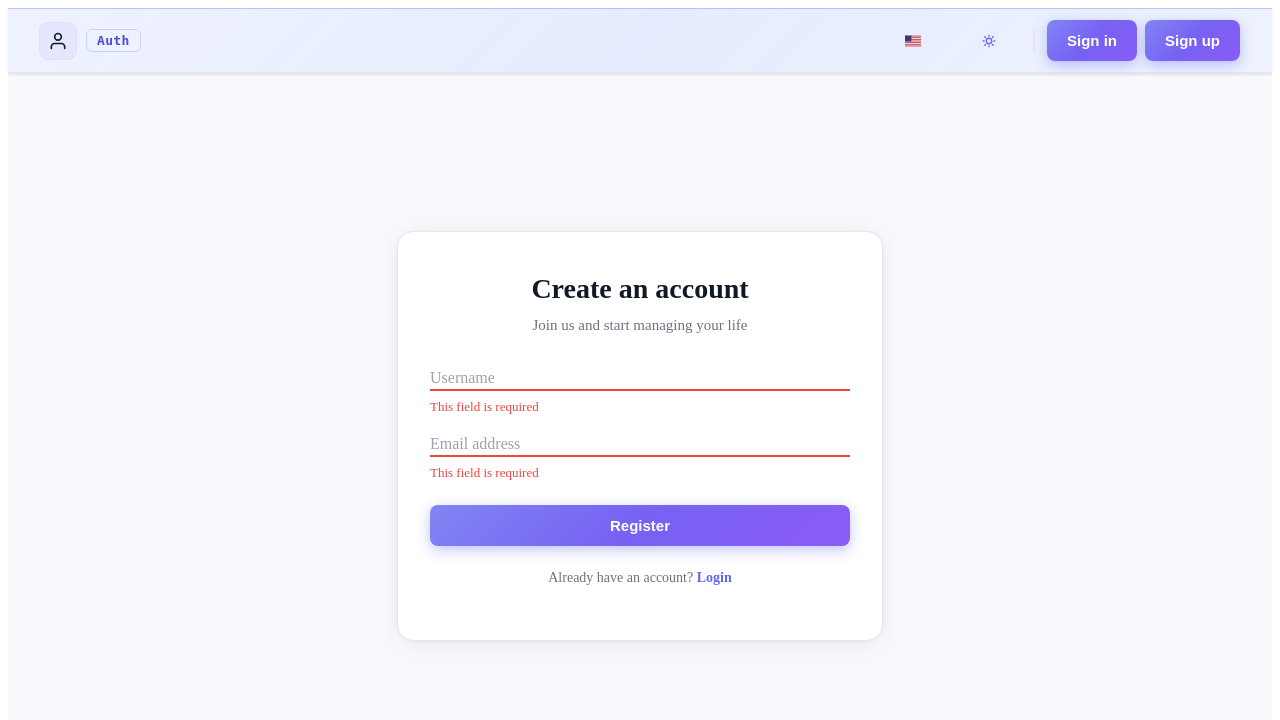
Test: Register Page › supports language switching to Vietnamese
Click the button with test id "language-selector" at [913, 41], box [881,21,945,61]
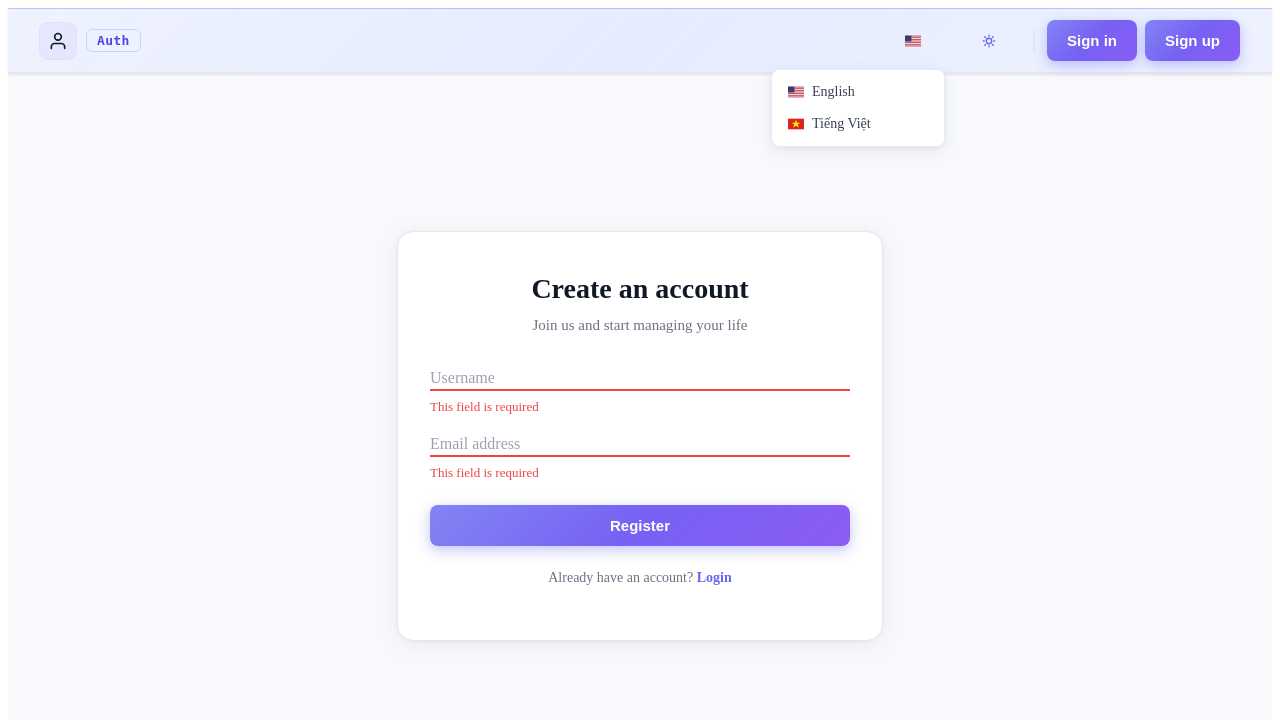
Click the button "Tiếng Việt" at [858, 124], box [778,108,938,140]
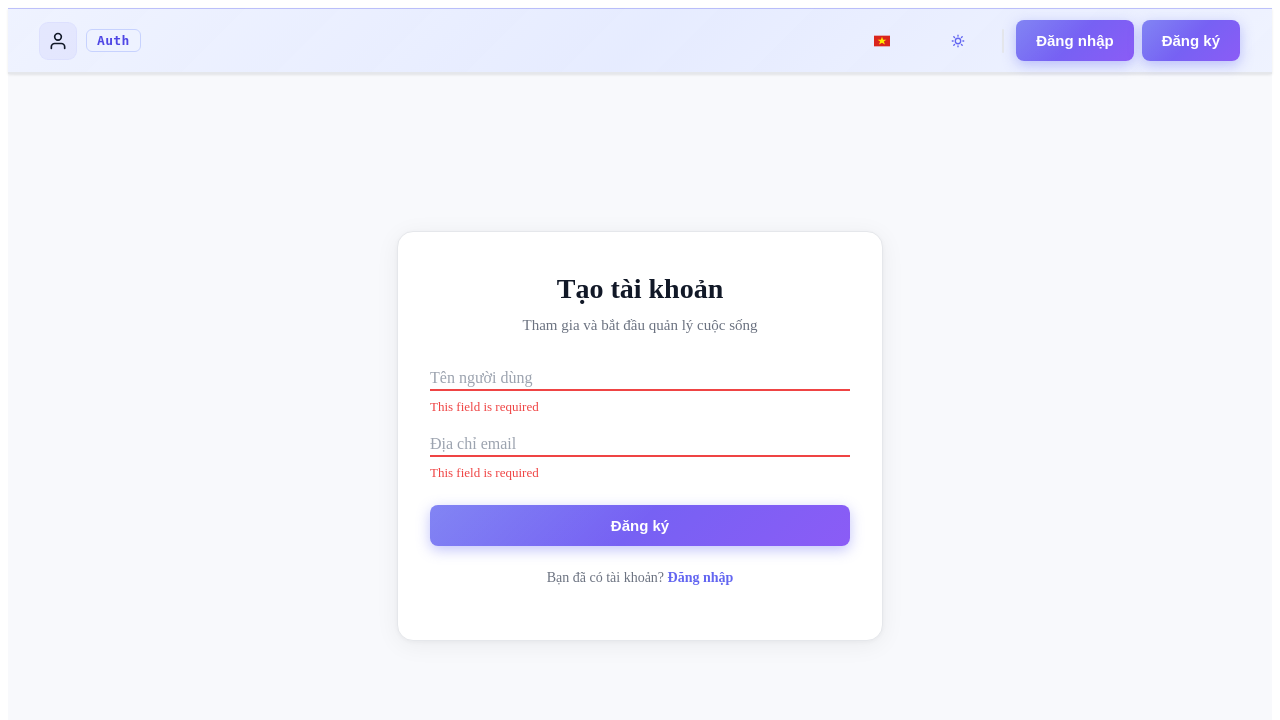
Now the heading "Tạo tài khoản" is shown, box [557,274,723,304]
Now the text "Tham gia và bắt đầu quản lý cuộc sống" is shown, box [522,317,757,333]
Now the text "Bạn đã có tài khoản?" is shown, box [547,570,664,585]
